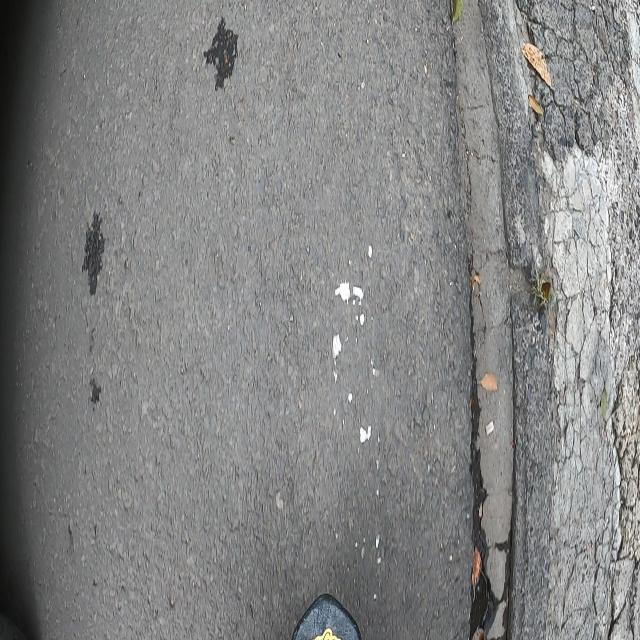Lubang: (204, 18, 238, 90), (82, 213, 105, 296)
